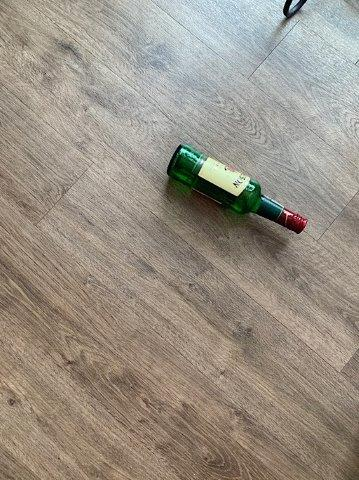botolkaca: (169, 145, 309, 232)
